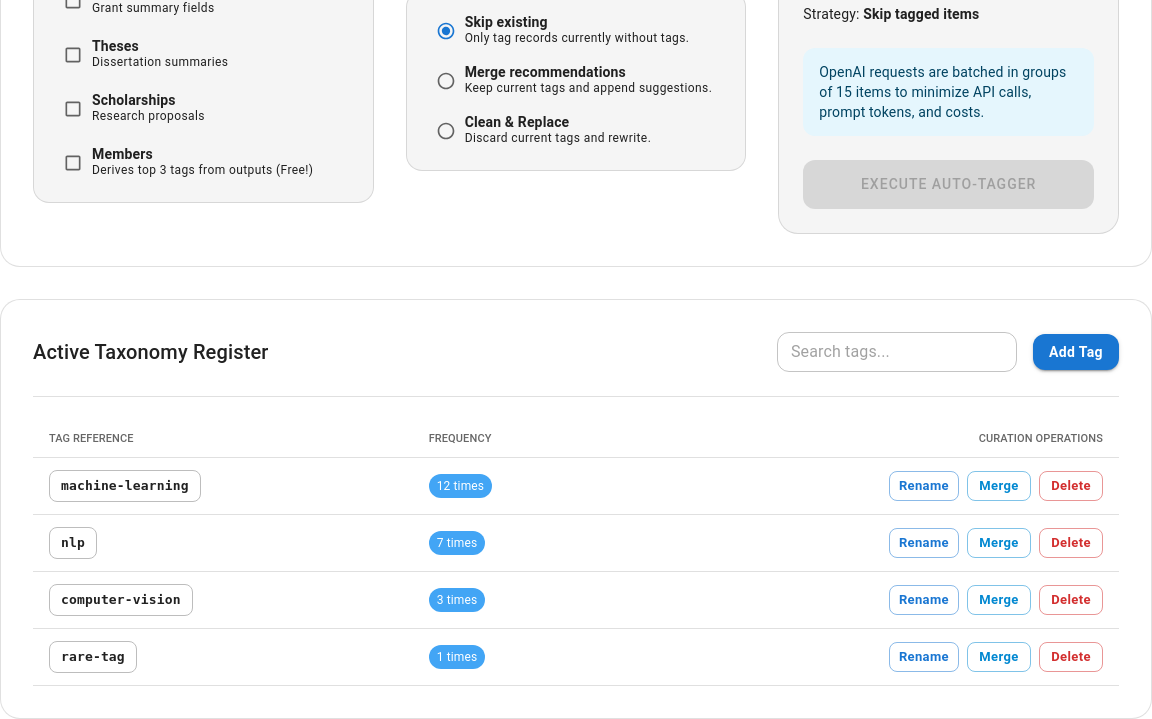
Test: TagsCurationClient › opens merge dialog when 'Merge' button is clicked
The image size is (1152, 719).
(page scrolled)
Click the button "Merge" in the row of "machine-learning": (999,486) left=967, top=471, right=1031, bottom=501
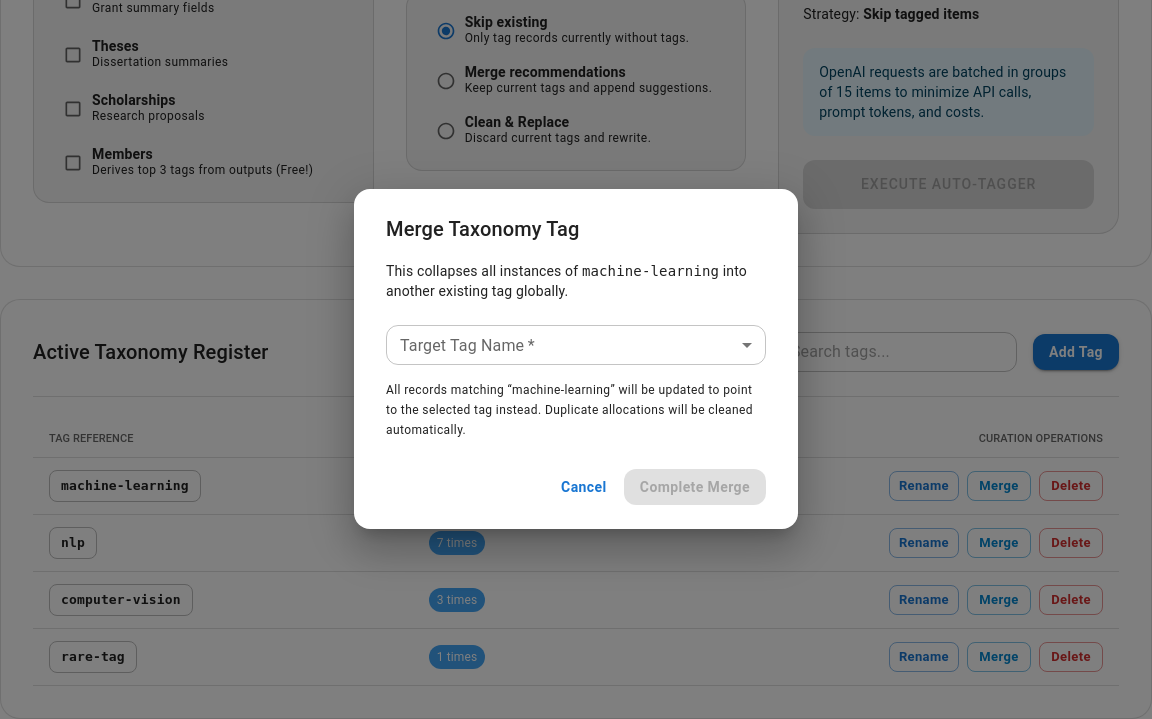
Check: the dialog is shown, box left=354, top=189, right=798, bottom=529
